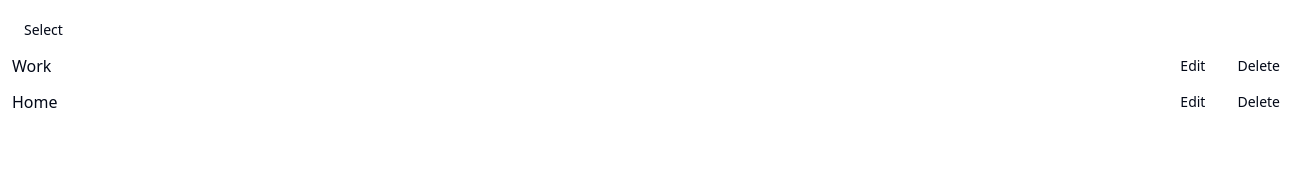
Category selection › keeps a selected category checkable while it is being renamed
The width and height of the screenshot is (1304, 172).
Click the button "Select": (43, 30) [12, 12, 75, 48]
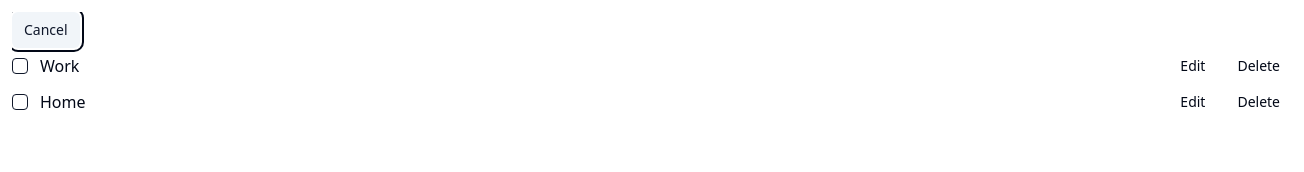
Click the checkbox named "Select Work": (20, 66) [12, 58, 28, 74]
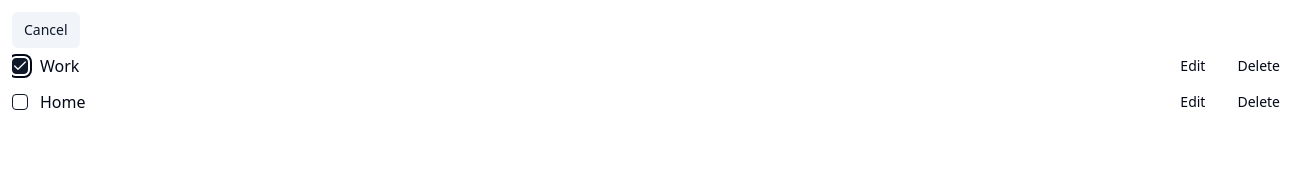
Click the button "Edit" in the row of "Work": (1193, 66) [1168, 48, 1218, 84]
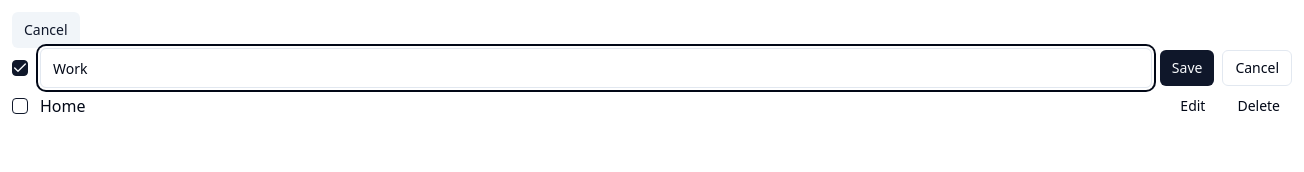
Check: the checkbox named "Select Work" is checked, box [12, 60, 28, 76]
Check: the field named "Rename Work" is shown, box [40, 48, 1152, 88]
